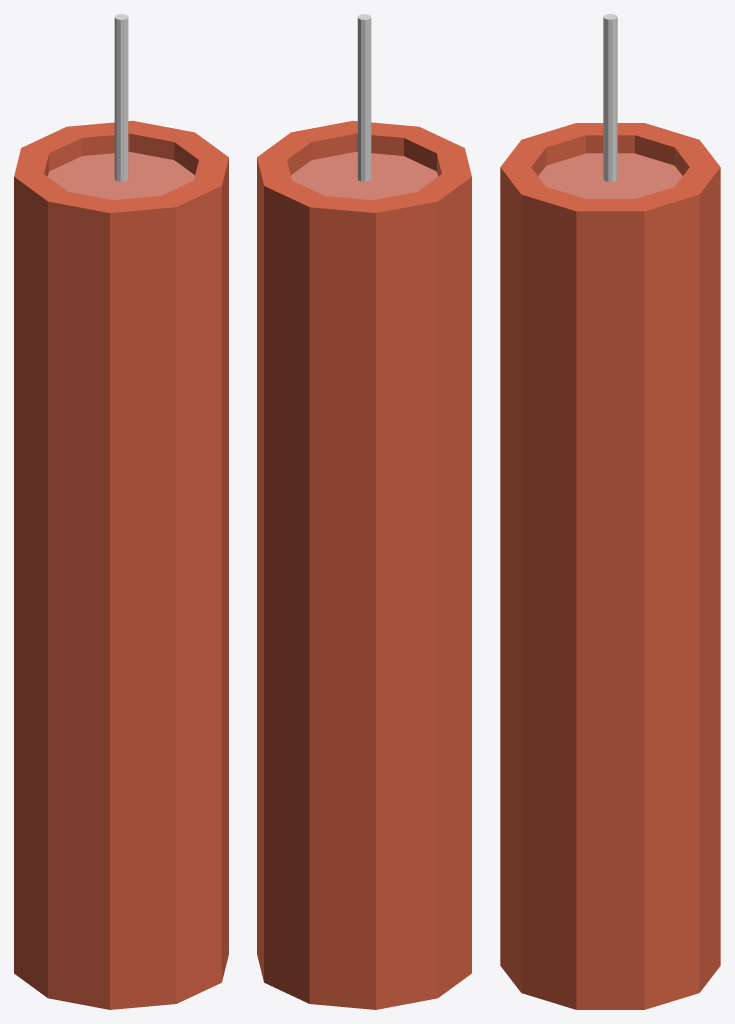
The model's file is Dynamite.fbx.
3 renders of one model, left to right at view 1: azimuth 30°, elevation 25°; view 2: azimuth 150°, elevation 25°; view 3: azimuth 270°, elevation 25°, orthographic.
Visible parts, largest first — view 1: Dynamite, Wick; view 2: Dynamite, Wick; view 3: Dynamite, Wick.
Boxes of the visible parts, <box> form: Dynamite: <box>14,120,228,1009</box>; Wick: <box>114,14,128,181</box>; Dynamite: <box>257,120,471,1009</box>; Wick: <box>357,14,371,181</box>; Dynamite: <box>500,123,720,1009</box>; Wick: <box>603,14,617,181</box>.
Bounding box in the file's own units: 190 × 951 × 200.
